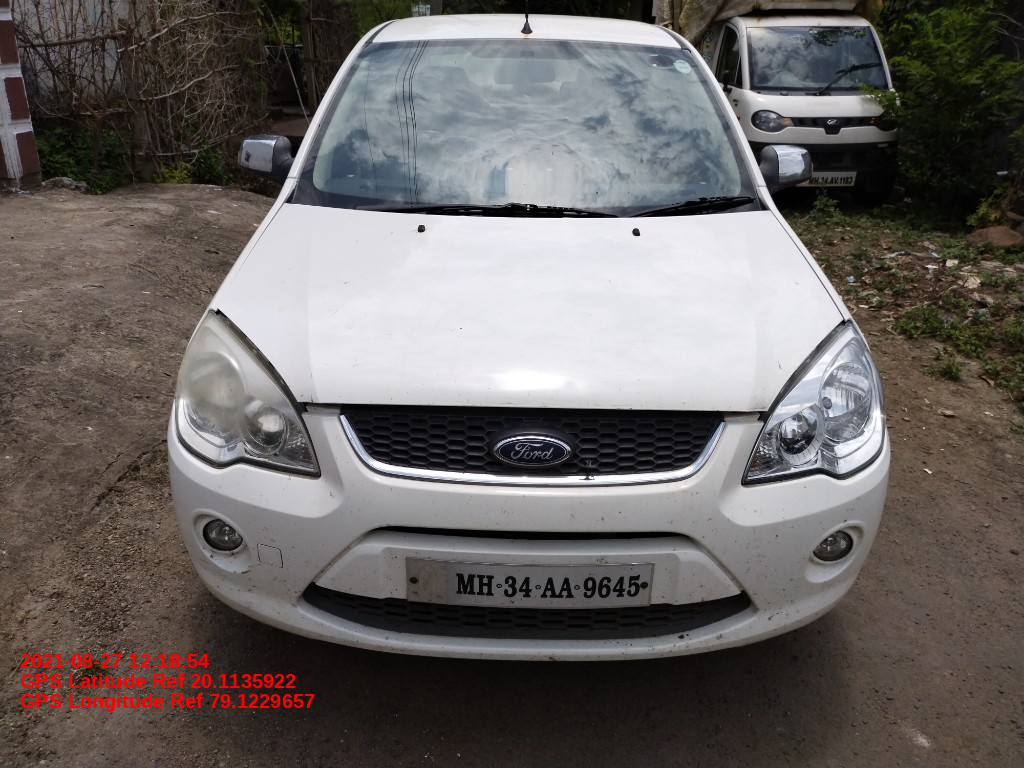Scratched: (763, 605, 788, 626), (236, 561, 256, 582), (541, 651, 566, 666), (674, 630, 696, 647), (324, 487, 343, 505), (773, 355, 787, 375), (597, 508, 610, 525), (615, 507, 629, 518)
